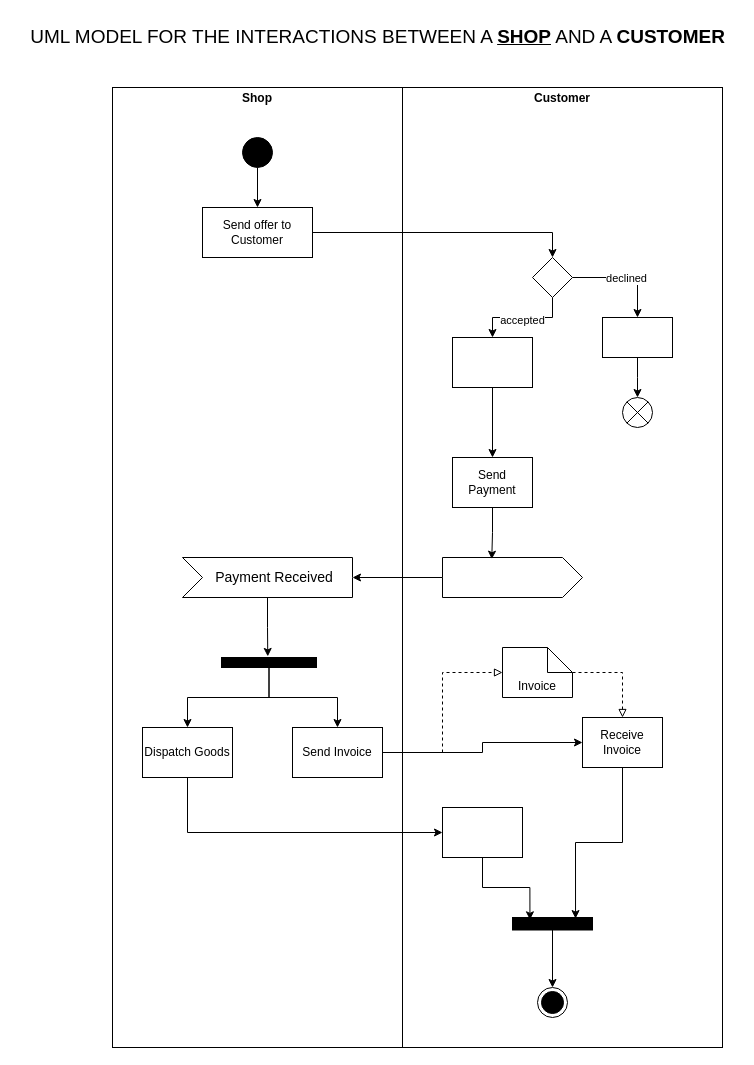
Image size: 754x1065. Some labels were removed from this diagram. The centre of each missing label's shape, as x and y in pixels:
"Offer Accepted" belongs at point (492, 362).
"Offer Rejected" belongs at point (637, 337).
"Payment Confirmation" belongs at point (512, 577).
"Receive Goods" belongs at point (482, 832).
